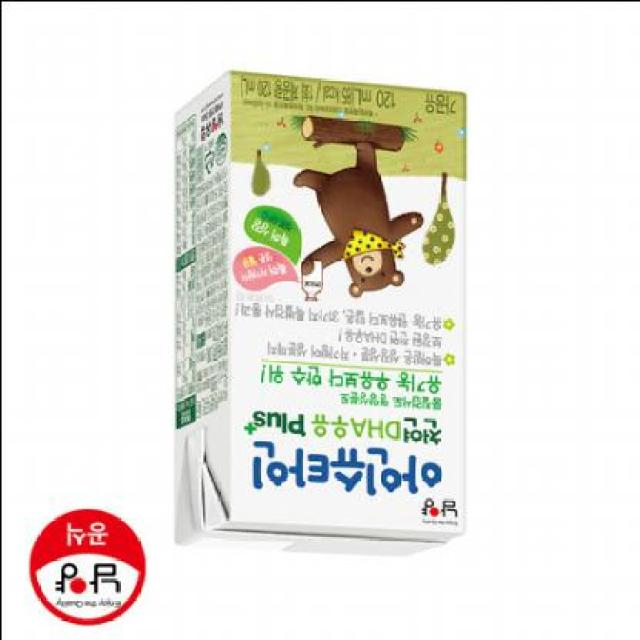tetra: (156, 55, 482, 572)
